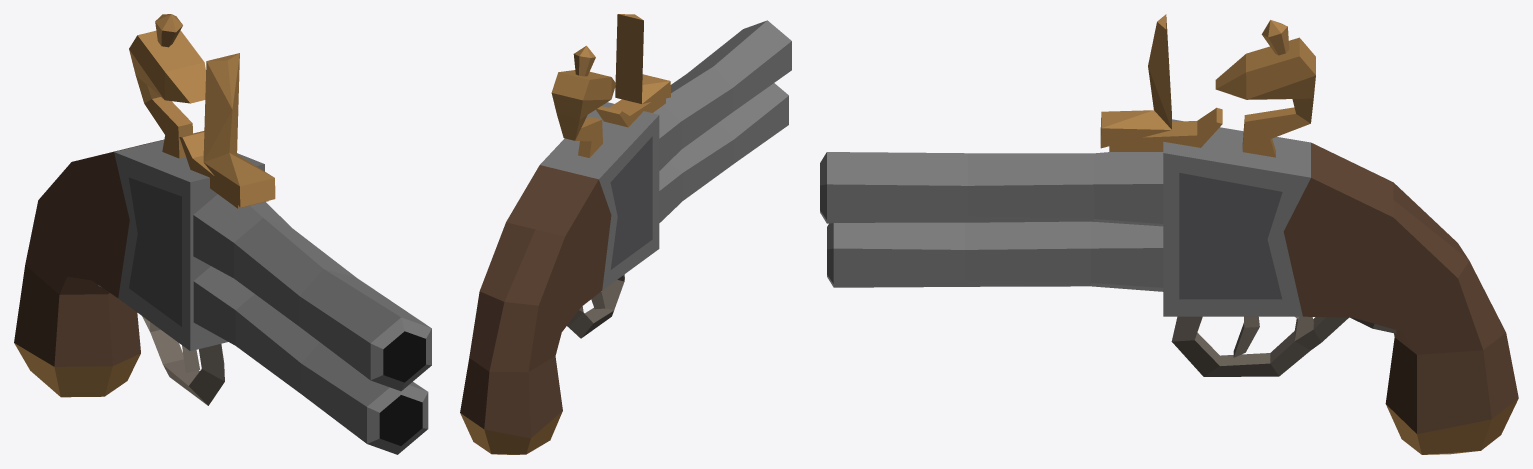
File: SM_Wep_Pistol_DoubleBarrel_01_Separate.glb
3 views of the same model, side by side, from view 1: azimuth 30°, elevation 25°; view 2: azimuth 150°, elevation 25°; view 3: azimuth 270°, elevation 25° (orthographic). The views are drawn at different scales.
Parts seen in each view (by area): view 1: SM_Wep_Pistol_DoubleBarrel_01_Trigger; view 2: SM_Wep_Pistol_DoubleBarrel_01_Trigger; view 3: SM_Wep_Pistol_DoubleBarrel_01_Trigger.
Boxes of the visible parts, x1,y1,x2,y2 form: SM_Wep_Pistol_DoubleBarrel_01_Trigger: [14, 14, 431, 454]; SM_Wep_Pistol_DoubleBarrel_01_Trigger: [460, 14, 791, 454]; SM_Wep_Pistol_DoubleBarrel_01_Trigger: [820, 14, 1518, 454].
Size of the model in its own units: 0.000498 by 0.0024 by 0.0035.
